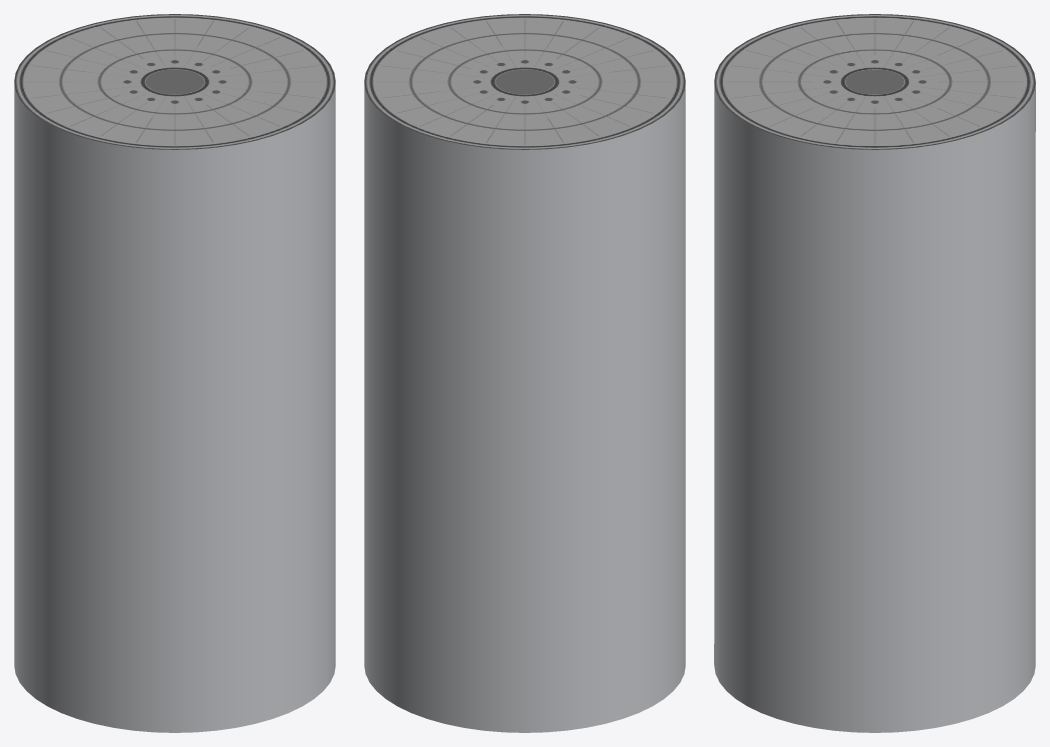
The model's file is FuelTank.fbx.
3 renders of one model, left to right at view 1: azimuth 30°, elevation 25°; view 2: azimuth 150°, elevation 25°; view 3: azimuth 270°, elevation 25°, orthographic.
Visible parts, largest first — view 1: FuelTank; view 2: FuelTank; view 3: FuelTank.
Part boxes in pixels (x1,y1,x2,y2): FuelTank: (14,14,335,732); FuelTank: (364,14,685,732); FuelTank: (714,14,1035,732).
Bounding box in the file's own units: 300 × 600 × 300.
